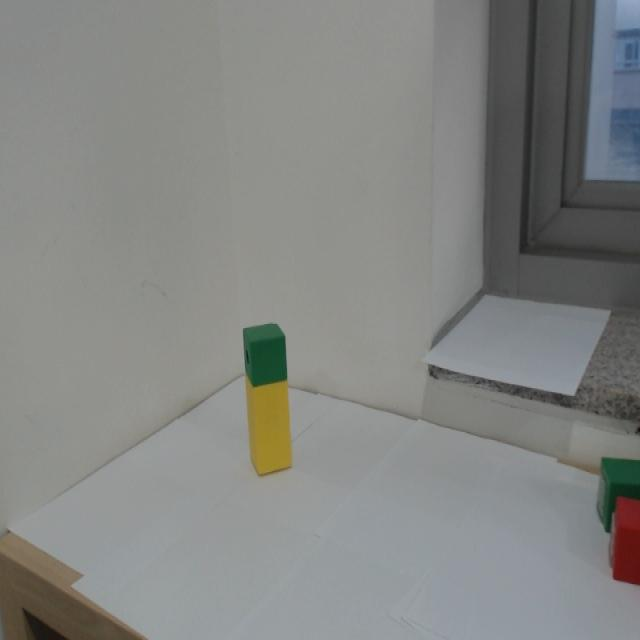cube: (239, 318, 293, 392)
